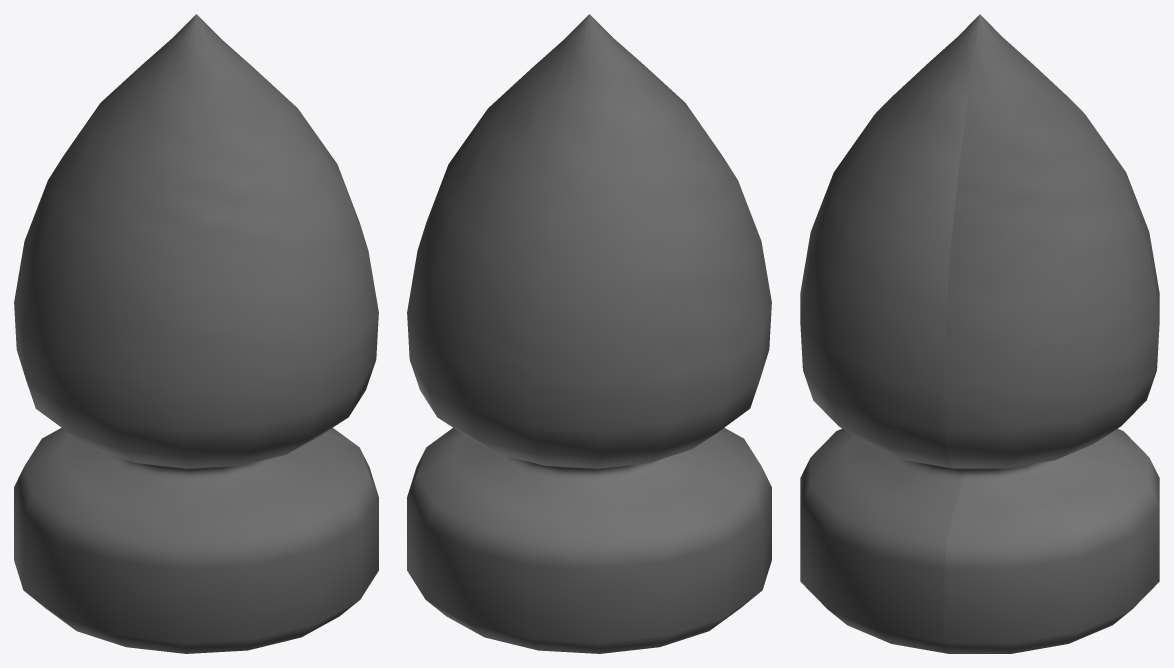
The model's file is polefinial_acorn.obj.
The picture shows the model from 3 angles, left to right: view 1: azimuth 30°, elevation 25°; view 2: azimuth 150°, elevation 25°; view 3: azimuth 270°, elevation 25°; orthographic projection.
Parts seen in each view (by area): view 1: polefinial_acorn; view 2: polefinial_acorn; view 3: polefinial_acorn.
Part boxes in pixels (box(x1,y1,x2,y2)): polefinial_acorn: box(14, 14, 378, 653); polefinial_acorn: box(407, 14, 771, 653); polefinial_acorn: box(800, 14, 1159, 653).
Size of the model in its own units: 0.4291 by 0.7563 by 0.4291.
